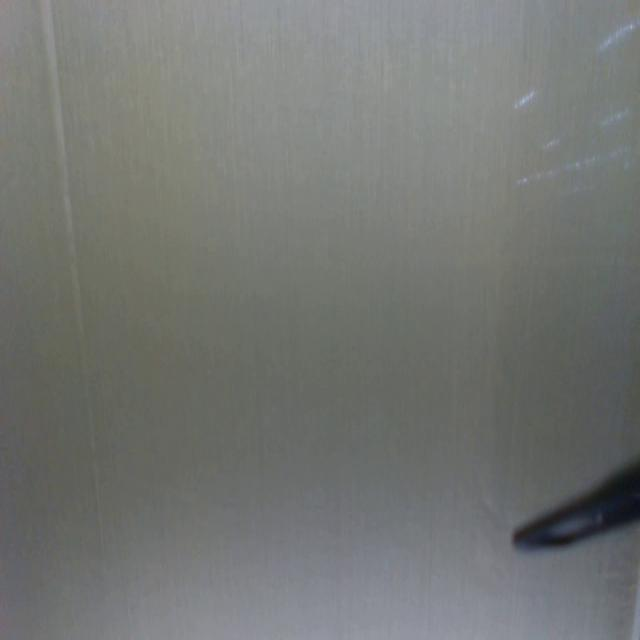crease: (38, 0, 109, 571)
